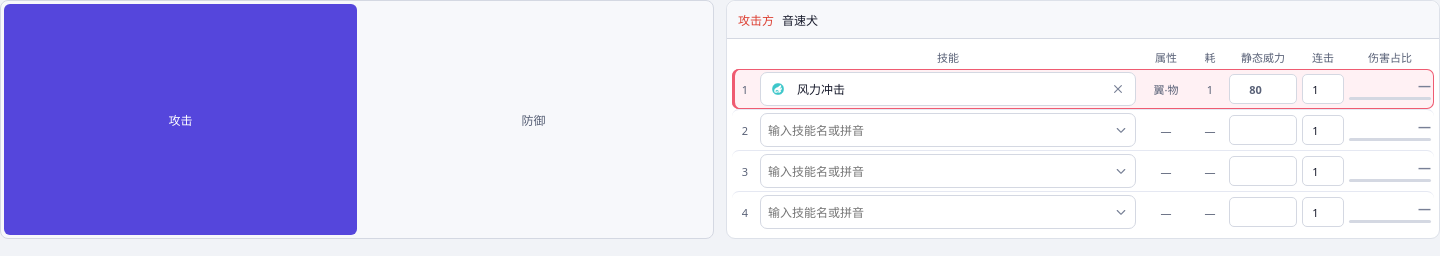
Test: mobile four-skill editor switches between four attack and defense slots
The image size is (1440, 256).
Expected: the number of dropdowns is 4, [790,73,1101,105]; [761,114,1115,146]; [761,155,1115,187]; [761,196,1115,228]
Expected: the dropdown named "攻击方技能1" holds "风力冲击", [790,73,1101,105]
Click the button "防御": (534, 120) [357,4,710,235]
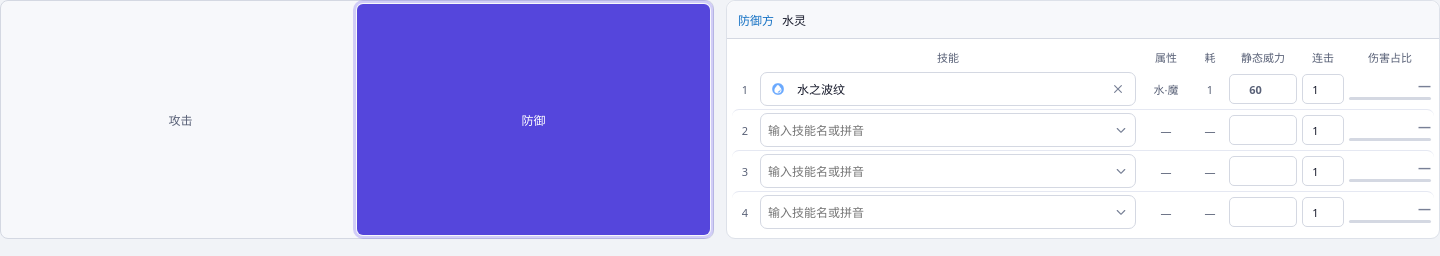
Expected: the number of dropdowns is 4, [790,73,1101,105]; [761,114,1115,146]; [761,155,1115,187]; [761,196,1115,228]
Result: the dropdown named "防御方技能1" holds "水之波纹" at [790,73,1101,105]
Result: the dropdown labelled "攻击方技能1" is gone
